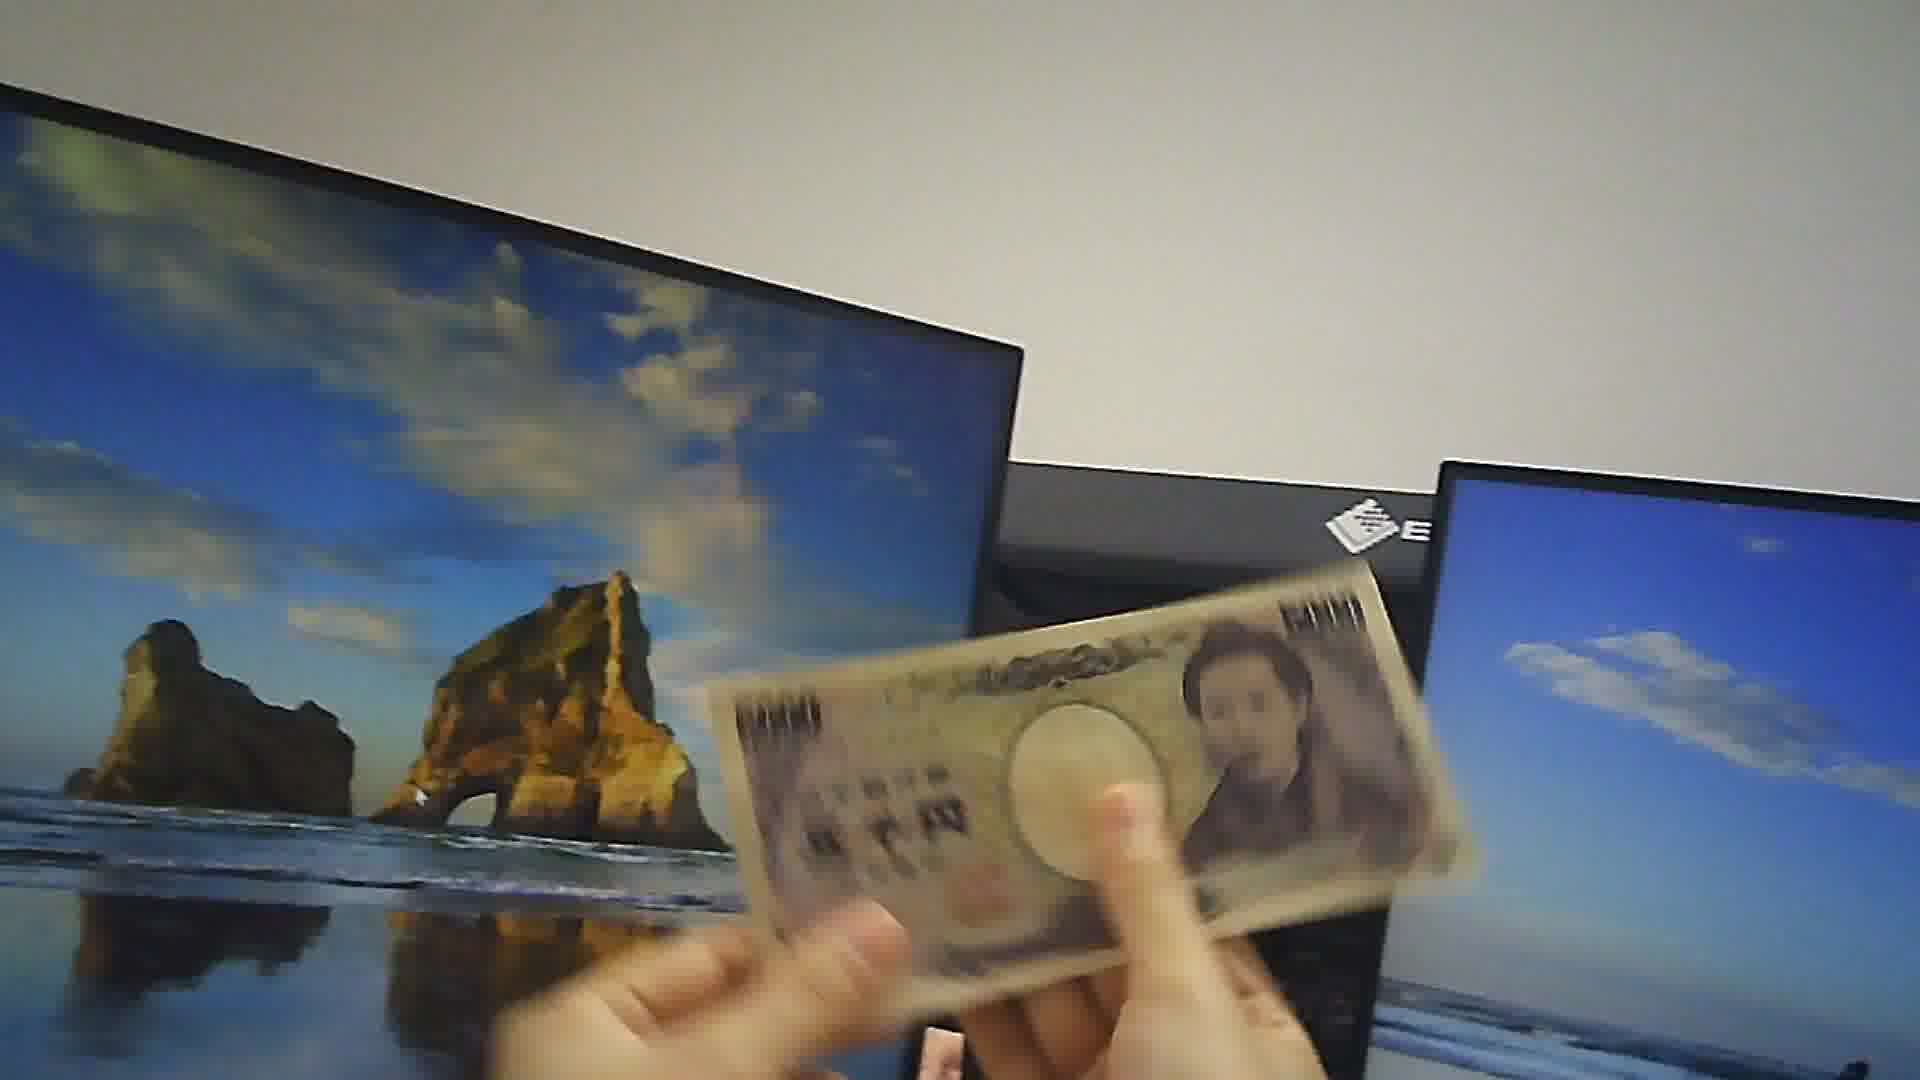5,000 Yen: (688, 571, 1480, 1006)
